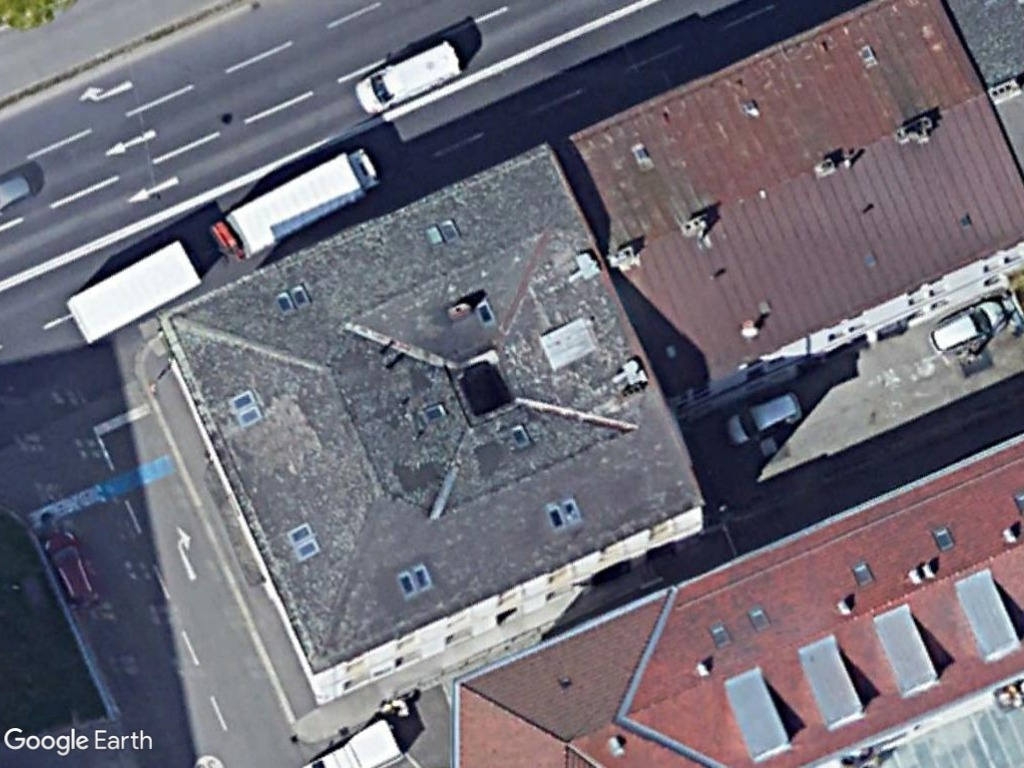car: (721, 385, 810, 449), (924, 292, 1010, 354)
truck: (223, 137, 382, 264)
van: (350, 32, 468, 118)
